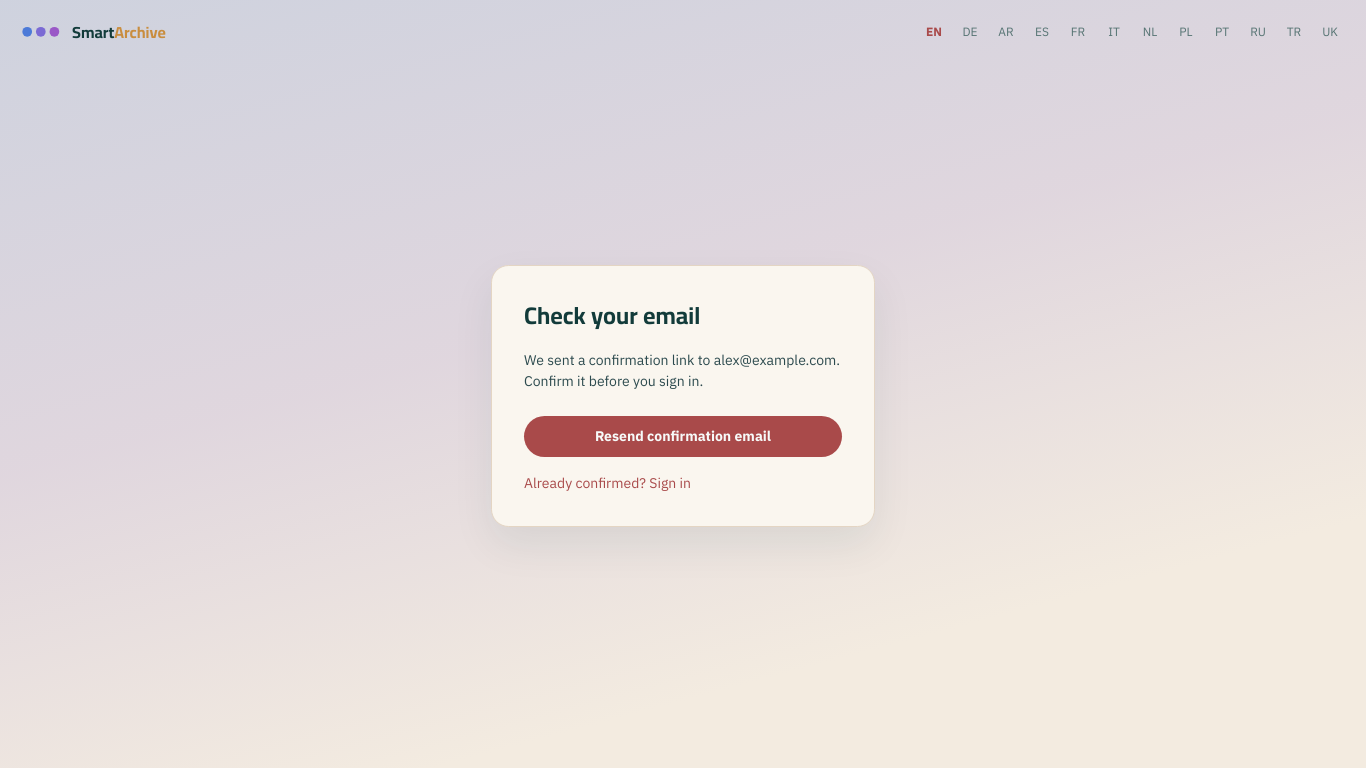
it: CheckEmail › resends using the email from location state
The image size is (1366, 768).
Expected: the heading "Check your email" is shown, x1=524 y1=293 x2=700 y2=338
Click the button "Resend confirmation email".
click(683, 436)  # box x1=524 y1=416 x2=842 y2=457
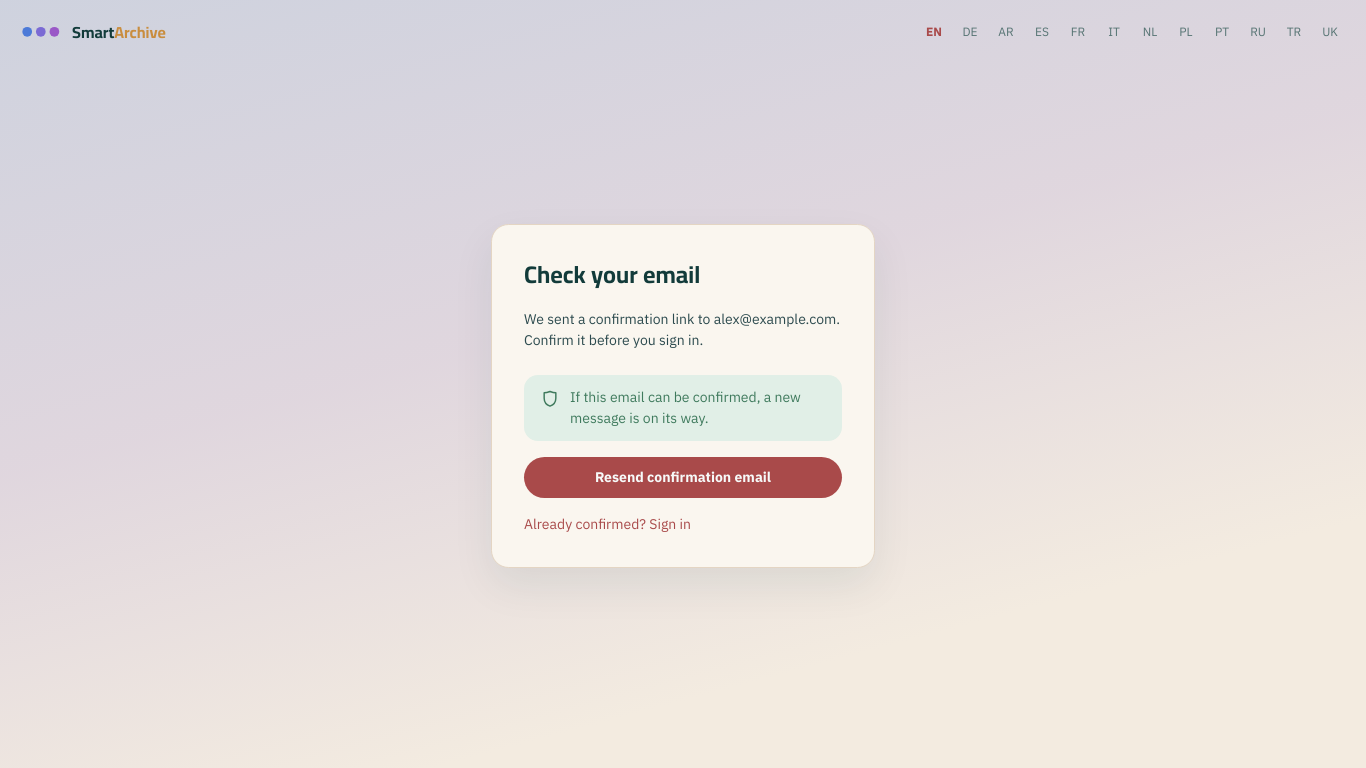
Now the text "If this email can be confirmed, a new message is on its way." is shown, box x1=570 y1=387 x2=826 y2=429
